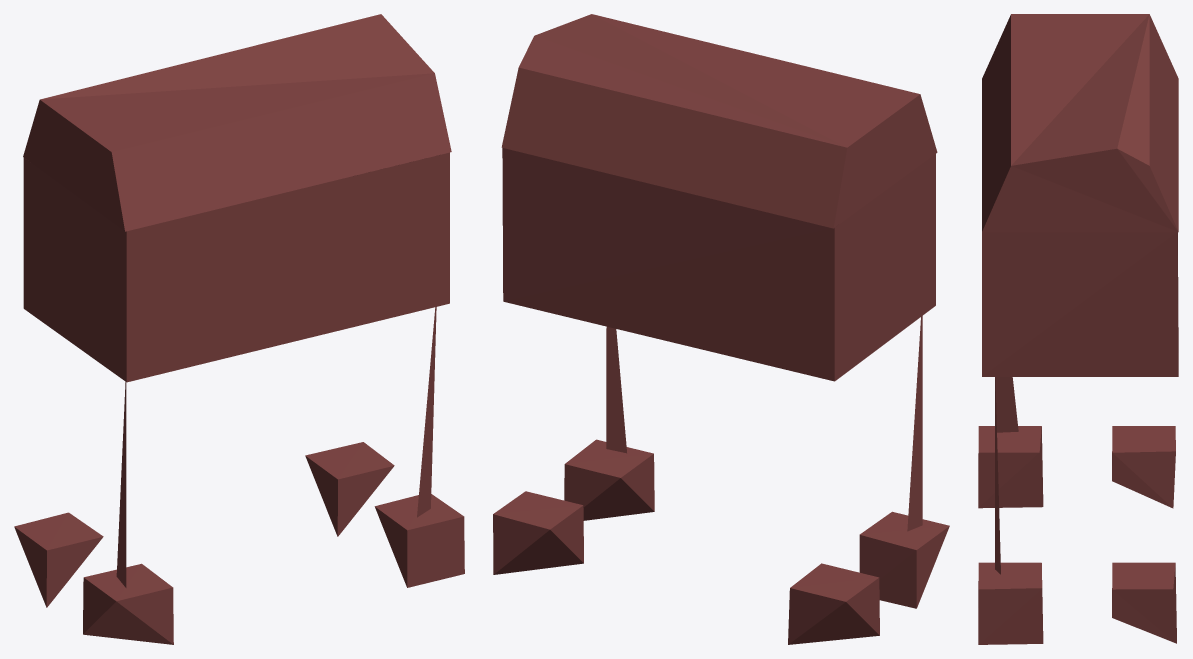
Rendered from hose-reel.lod2.glb.
3 renders of one model, left to right at view 1: azimuth 30°, elevation 25°; view 2: azimuth 150°, elevation 25°; view 3: azimuth 270°, elevation 25°, orthographic. The views are drawn at different scales.
Parts seen in each view (by area): view 1: Cube.037_Material.024_0; view 2: Cube.037_Material.024_0; view 3: Cube.037_Material.024_0.
Boxes of the visible parts, x1,y1,x2,y2 form: Cube.037_Material.024_0: [14, 14, 464, 644]; Cube.037_Material.024_0: [493, 14, 949, 644]; Cube.037_Material.024_0: [978, 14, 1178, 644].
Bounding box in the file's own units: 1.11 × 1.55 × 0.5744.
